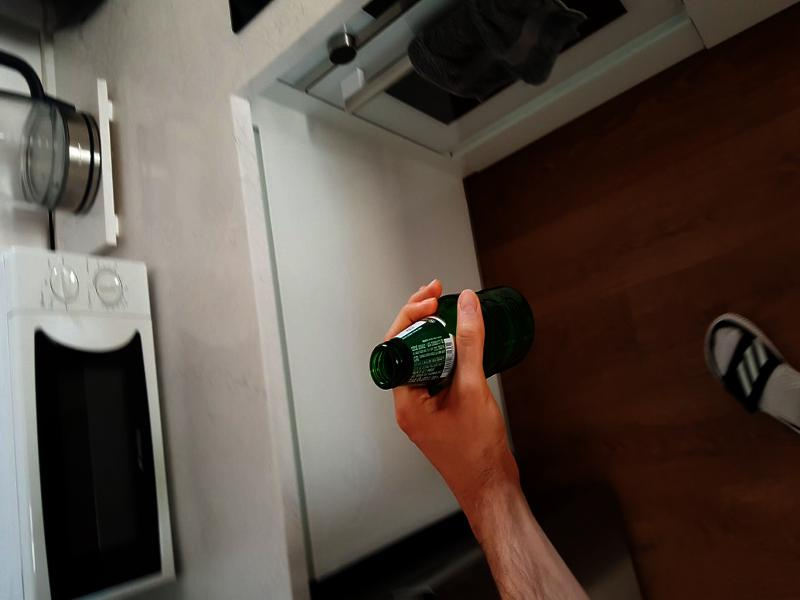Beer: (372, 286, 535, 389)
